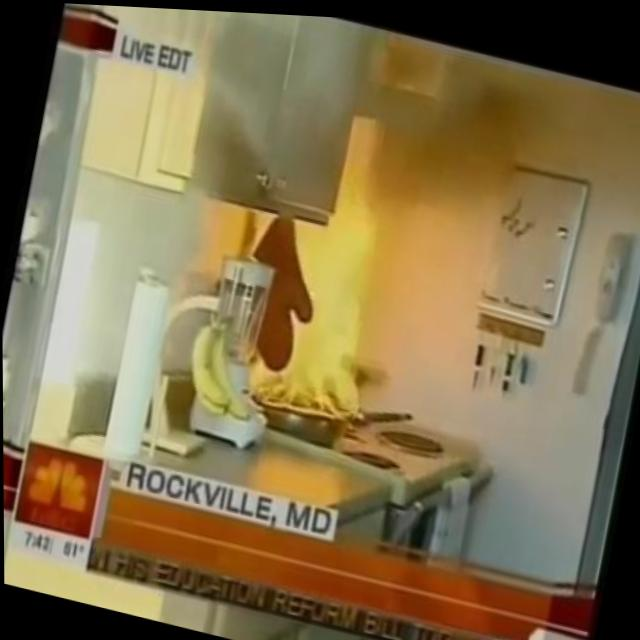fire: (210, 82, 423, 425)
